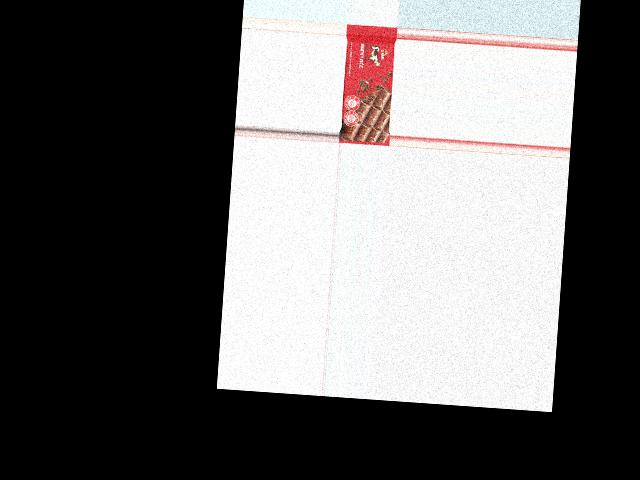chocolate: (338, 23, 396, 144)
